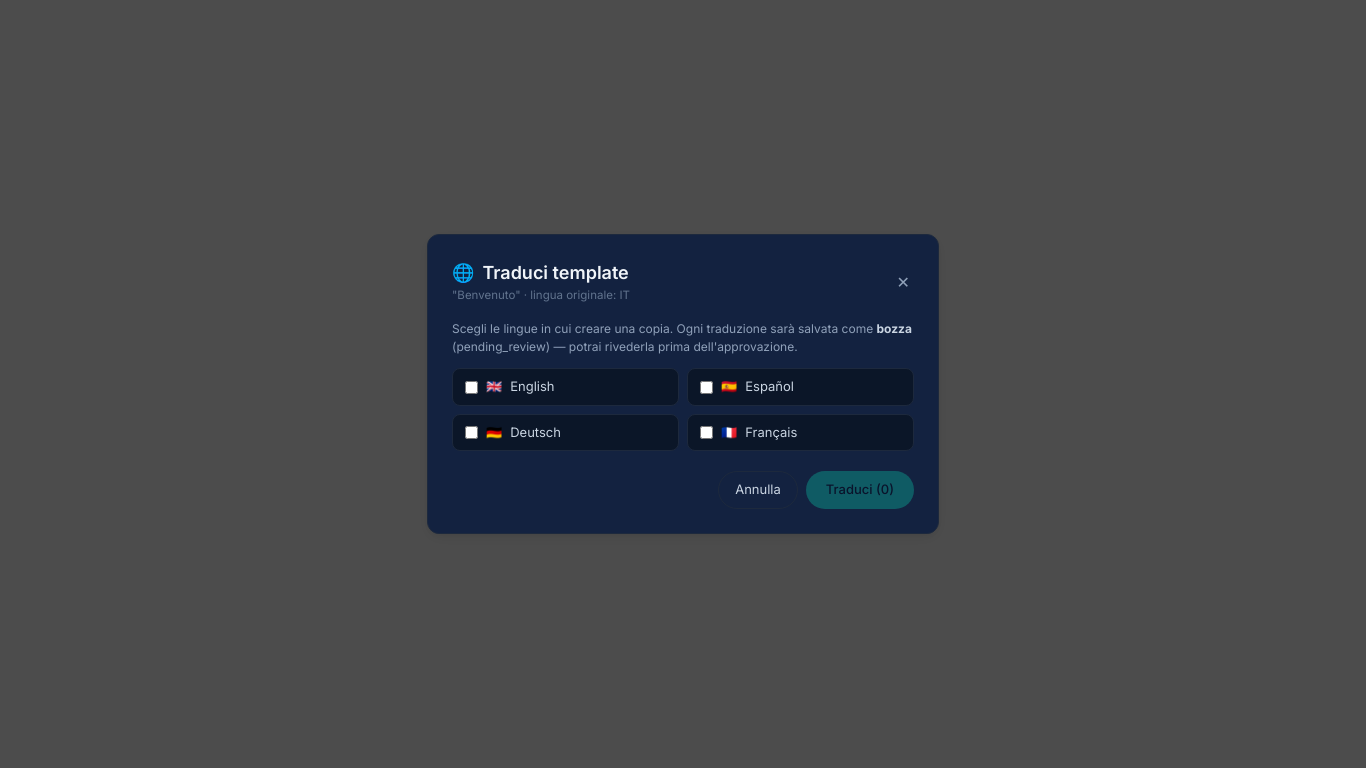
Scenario: <TranslateDialog> › submits selected languages and renders per-language results
Click the text "English" at coordinates (532, 387), box 510,377 -> 554,397
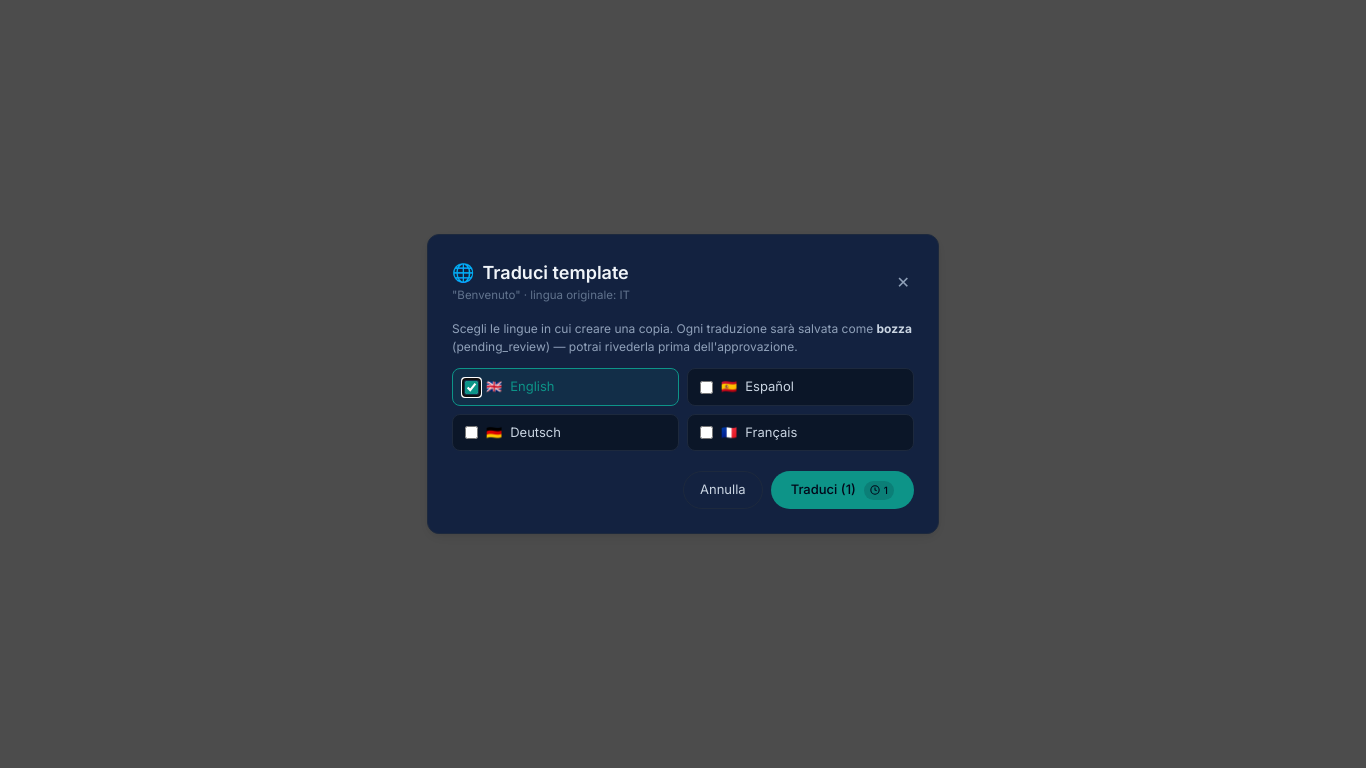
Click the text "Español" at coordinates (770, 387), box 745,377 -> 794,397
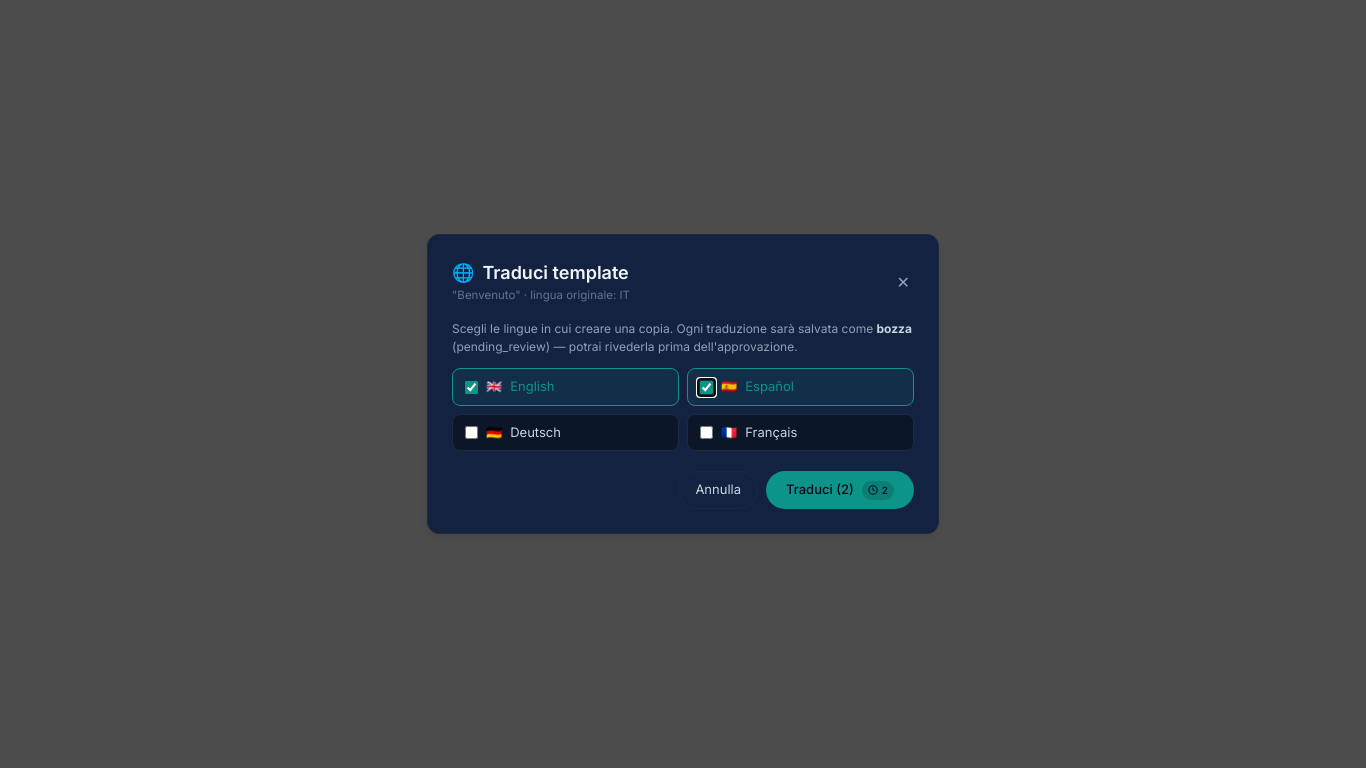
Click the button "Traduci (2) 2" at coordinates (840, 490), box 766,471 -> 914,509
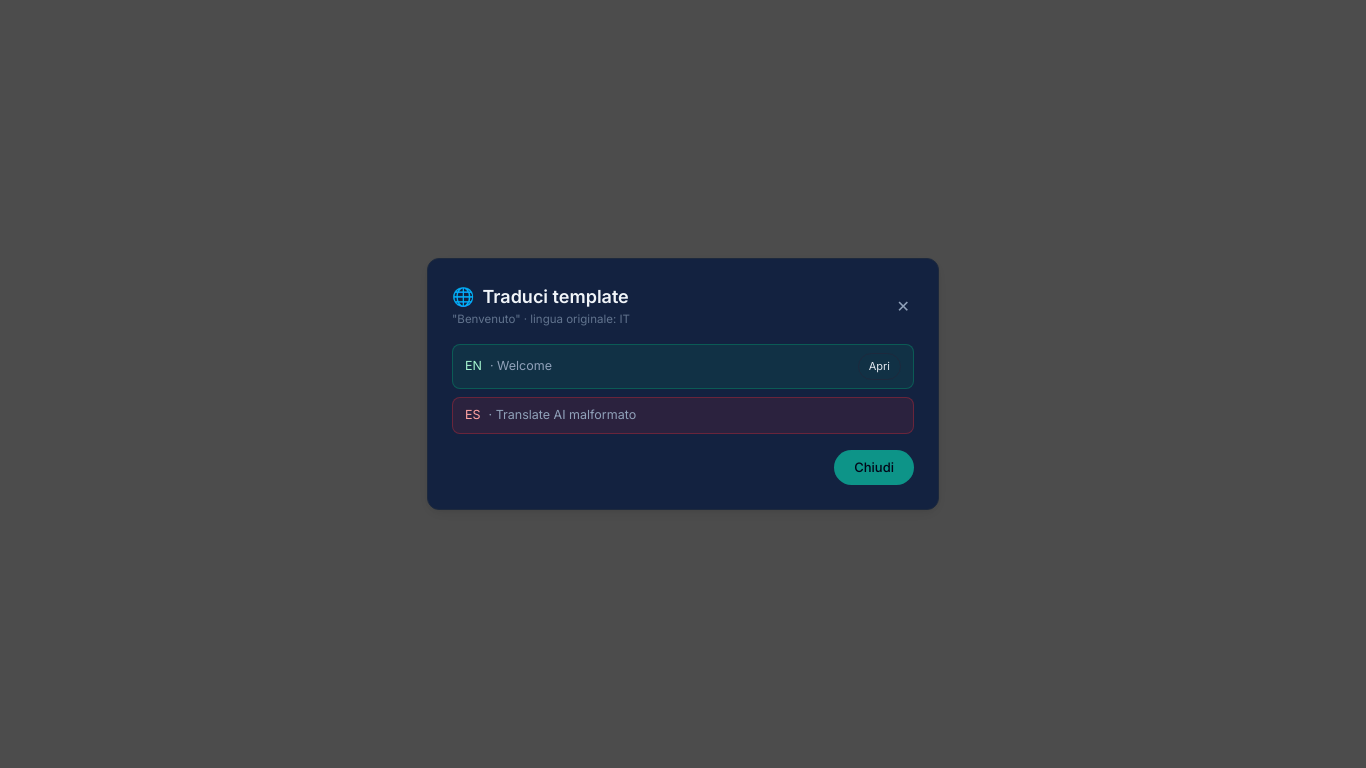
expect the text "· Welcome" is shown: met, box 490,357 -> 552,376
expect the text "· Translate AI malformato" is shown: met, box 488,406 -> 636,425
